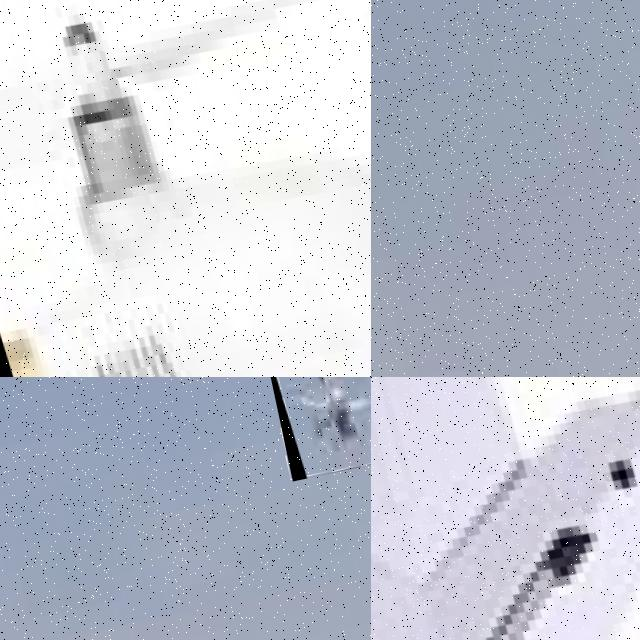0: (258, 377, 371, 480)
drone: (0, 0, 371, 377), (371, 377, 640, 640)
